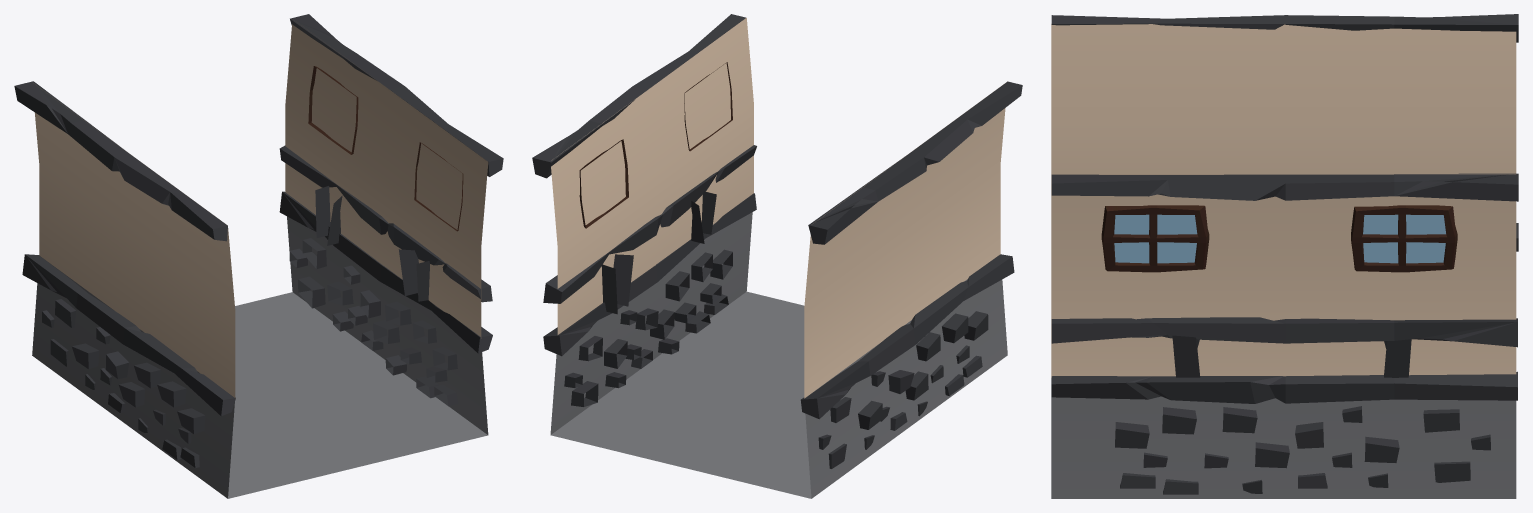
Rendered from SM_L_G_Home_Base.fbx.
The picture shows the model from 3 angles, left to right: view 1: azimuth 30°, elevation 25°; view 2: azimuth 150°, elevation 25°; view 3: azimuth 270°, elevation 25°; orthographic projection. The views are drawn at different scales.
Visible parts, largest first — view 1: SM_L_G_Home_Base; view 2: SM_L_G_Home_Base; view 3: SM_L_G_Home_Base.
Boxes of the visible parts, <box> form: SM_L_G_Home_Base: <box>14,14,503,498</box>; SM_L_G_Home_Base: <box>532,14,1022,498</box>; SM_L_G_Home_Base: <box>1051,14,1518,498</box>.
Bounding box in the file's own units: 3.41 × 3.01 × 3.92.
